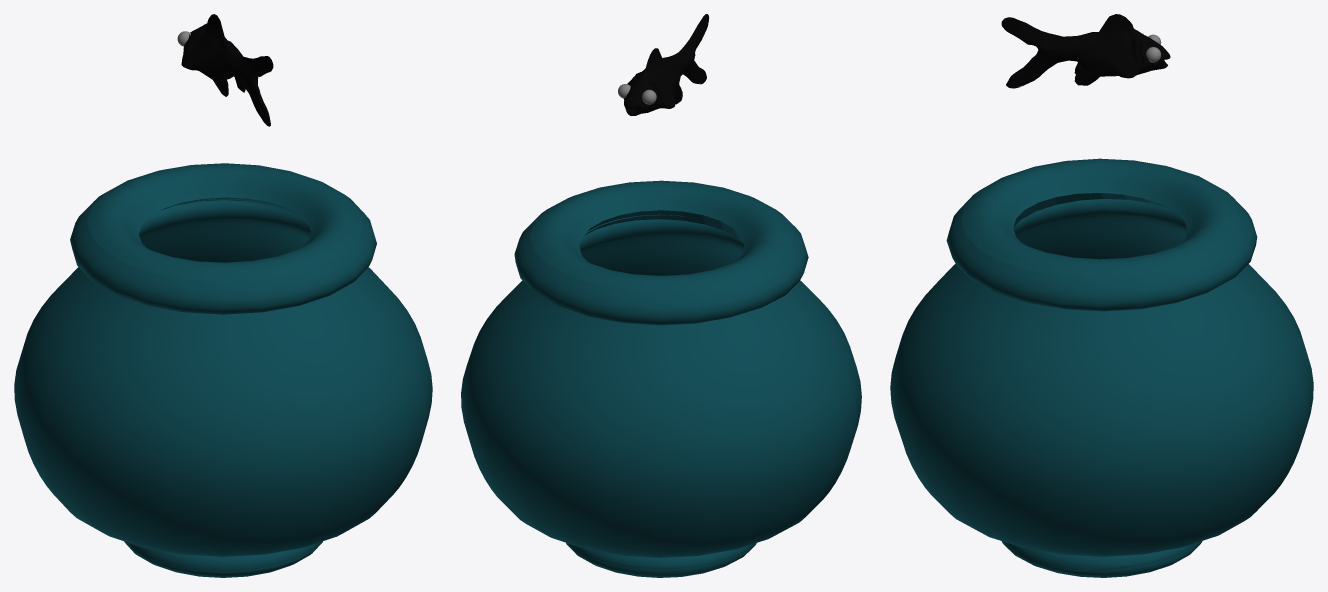
Rendered from uvGoldfish.obj.
3 views of the same model, side by side, from view 1: azimuth 30°, elevation 25°; view 2: azimuth 150°, elevation 25°; view 3: azimuth 270°, elevation 25° (orthographic). The views are drawn at different scales.
Visible parts, largest first — view 1: revolvedSurface1, polySurface2 polySurface1; view 2: revolvedSurface1, polySurface2 polySurface1; view 3: revolvedSurface1, polySurface3.
Part boxes in pixels (x1,y1,x2,y2): revolvedSurface1: [14, 163, 432, 577]; polySurface2 polySurface1: [181, 14, 272, 126]; revolvedSurface1: [461, 180, 861, 577]; polySurface2 polySurface1: [629, 14, 709, 115]; revolvedSurface1: [890, 158, 1313, 577]; polySurface3: [1001, 14, 1170, 88].
Size of the model in its own units: 14.5 by 20.15 by 14.5.
